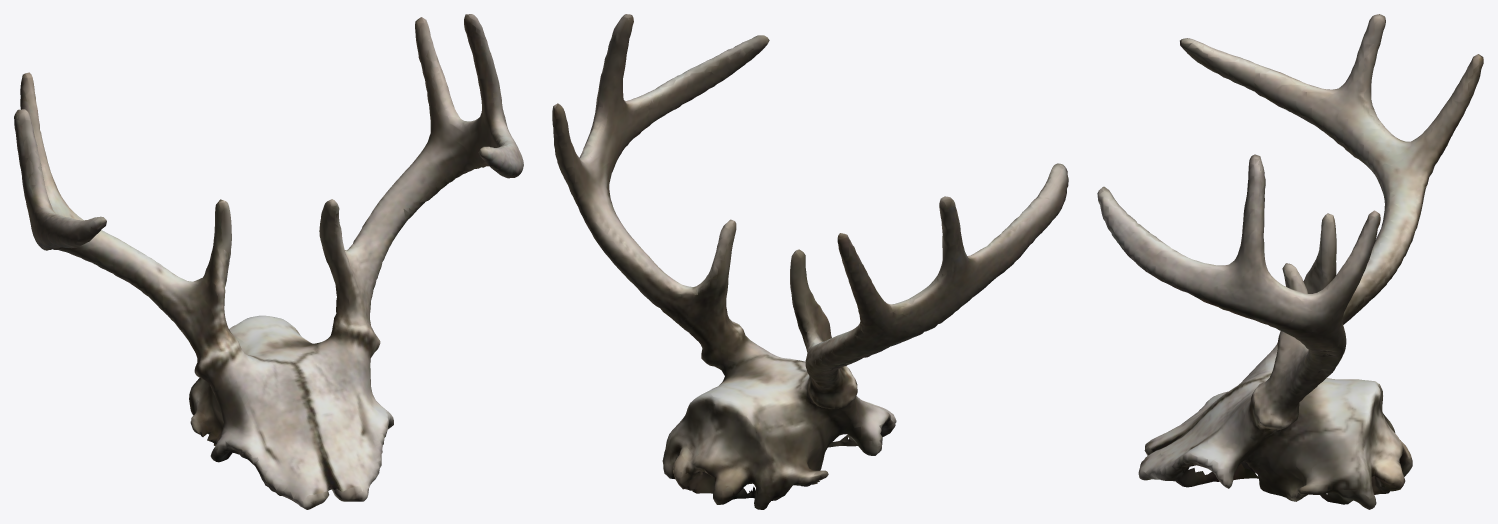
File: deer_antlers_low_res.glb
3 views of the same model, side by side, from view 1: azimuth 30°, elevation 25°; view 2: azimuth 150°, elevation 25°; view 3: azimuth 270°, elevation 25° (orthographic).
Parts seen in each view (by area): view 1: Object_2; view 2: Object_2; view 3: Object_2.
Part boxes in pixels (box(x1,y1,x2,y2)): Object_2: box(14, 14, 523, 509); Object_2: box(552, 14, 1068, 509); Object_2: box(1097, 14, 1483, 509).
Bounding box in the file's own units: 0.301 × 0.2562 × 0.2227.
1 material, 1 textured.
